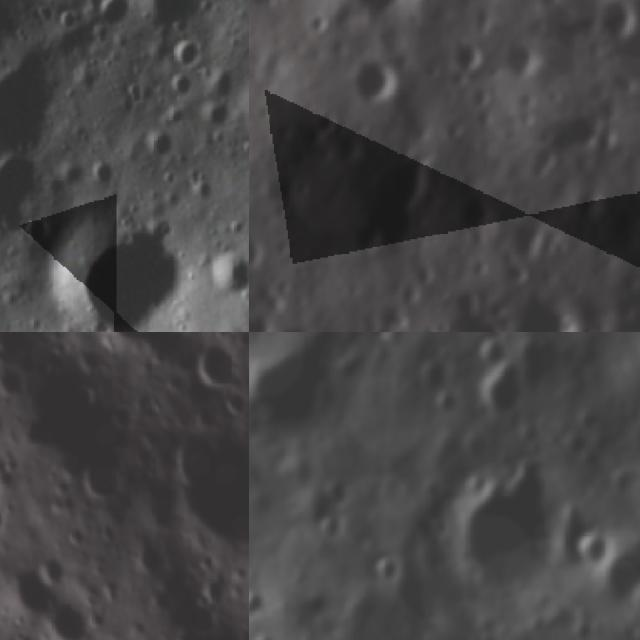crater: (44, 210, 183, 332), (443, 468, 560, 604), (146, 410, 249, 558), (249, 332, 337, 442), (0, 52, 56, 155), (67, 439, 136, 514), (0, 155, 52, 242), (505, 283, 585, 332), (187, 333, 247, 397), (475, 353, 530, 422), (591, 542, 640, 616), (26, 596, 97, 640), (206, 238, 249, 301), (352, 55, 403, 106), (568, 524, 617, 574), (26, 545, 74, 594), (306, 510, 353, 554), (362, 549, 406, 595), (597, 2, 640, 49), (86, 0, 137, 38), (166, 31, 210, 68), (196, 94, 234, 136), (508, 44, 548, 82), (603, 462, 640, 501), (430, 381, 462, 426), (453, 42, 495, 76), (352, 219, 385, 259), (321, 476, 356, 512), (333, 134, 366, 170), (164, 75, 195, 106), (260, 318, 327, 332), (574, 443, 606, 472), (576, 405, 604, 436), (249, 582, 272, 618), (312, 113, 341, 139), (606, 393, 633, 419), (0, 570, 11, 628), (250, 628, 277, 640)
